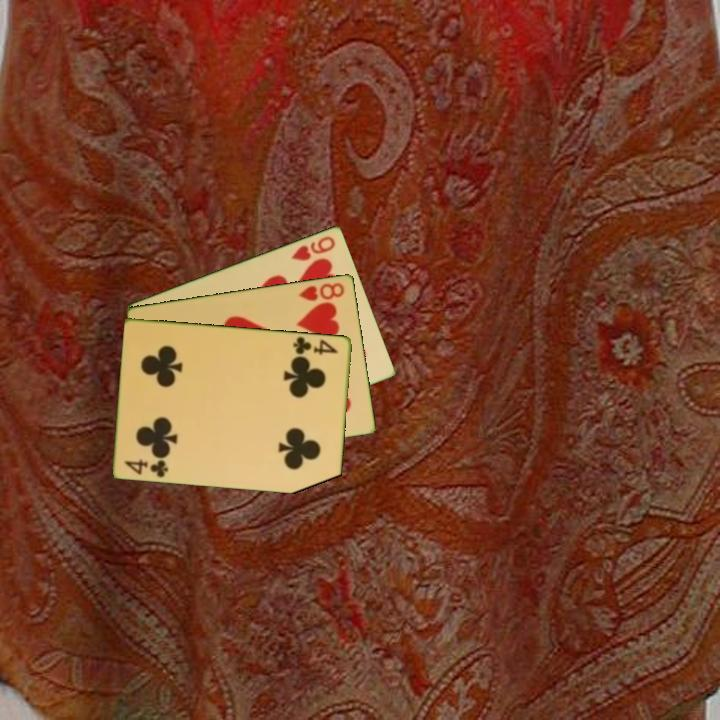4c: (121, 455, 171, 480), (290, 333, 340, 357)
8h: (295, 279, 348, 303)
9h: (288, 232, 338, 263)
